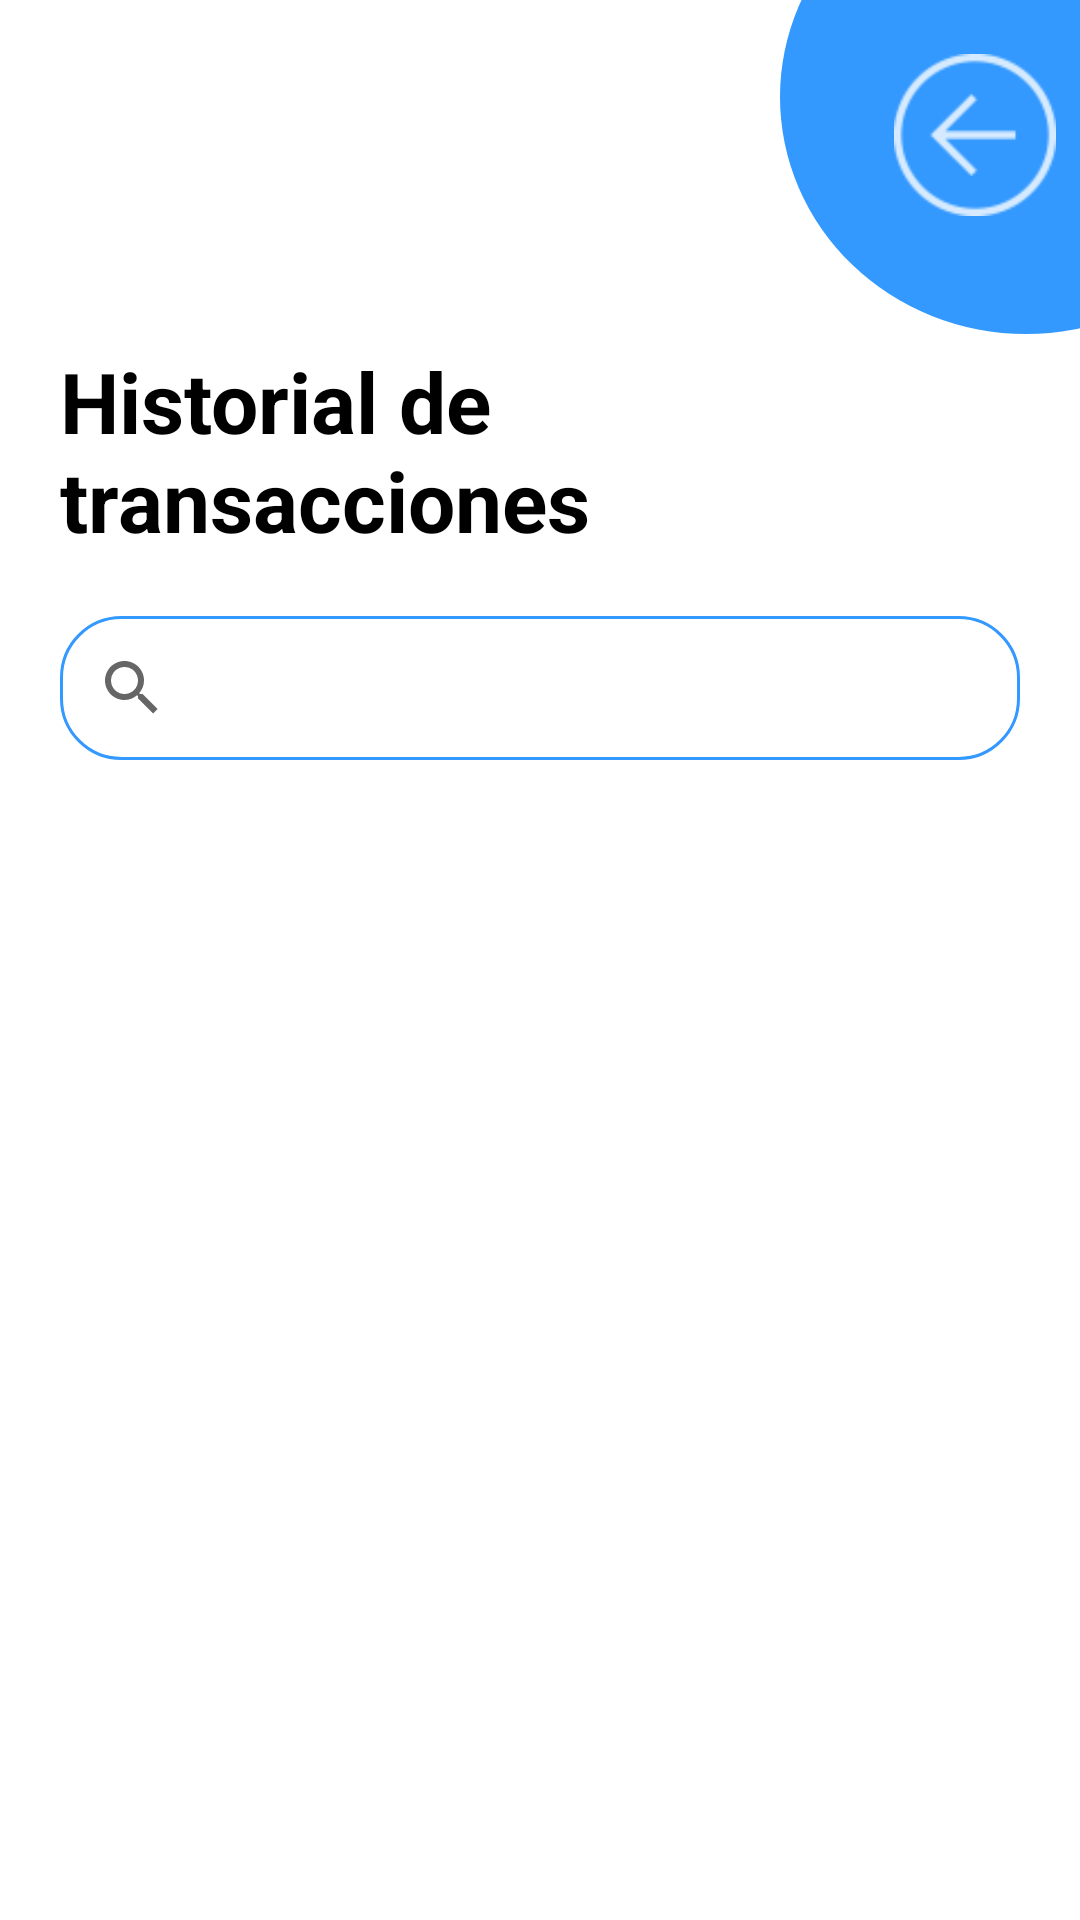

Icons on this 1080w x 1920h Android screen, each with the point to tap as [x,y]:
arrowback: [975,135]
